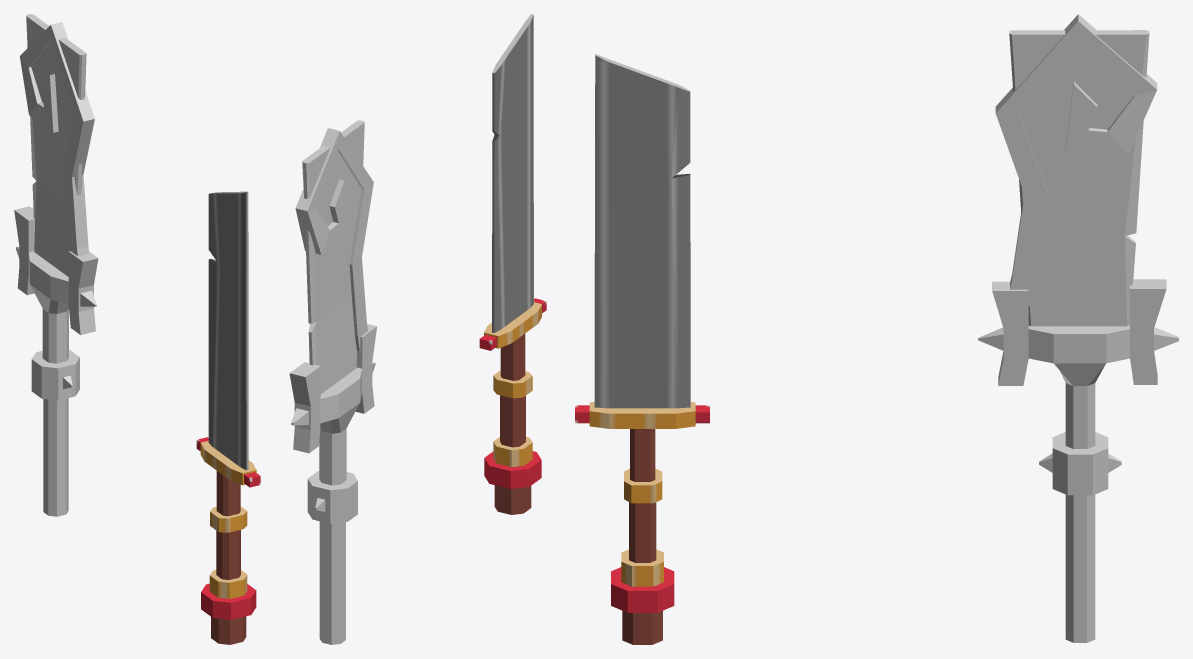
Rendered from Sword Model.fbx.
The picture shows the model from 3 angles, left to right: view 1: azimuth 30°, elevation 25°; view 2: azimuth 150°, elevation 25°; view 3: azimuth 270°, elevation 25°; orthographic projection. The views are drawn at different scales.
Visible parts, largest first — view 1: Cube.001, Cube; view 2: Cube.001, Cube; view 3: Cube.001, Cube.
Boxes of the visible parts, bbox=[...] form: Cube.001: bbox=[14, 14, 98, 516]; Cube: bbox=[196, 191, 260, 644]; Cube.001: bbox=[289, 120, 376, 644]; Cube: bbox=[479, 14, 546, 514]; Cube.001: bbox=[978, 14, 1178, 642]; Cube: bbox=[575, 54, 709, 644].
Bounding box in the file's own units: 688 × 63.88 × 608.
